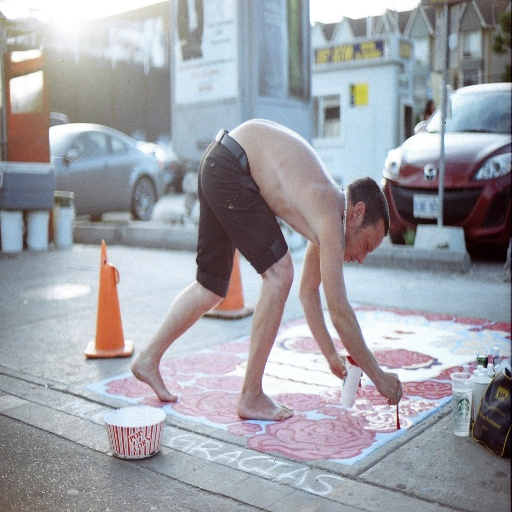hand: (371, 368, 412, 416), (329, 352, 363, 388)
